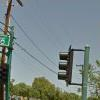Traffic light: (47, 42, 81, 90)
